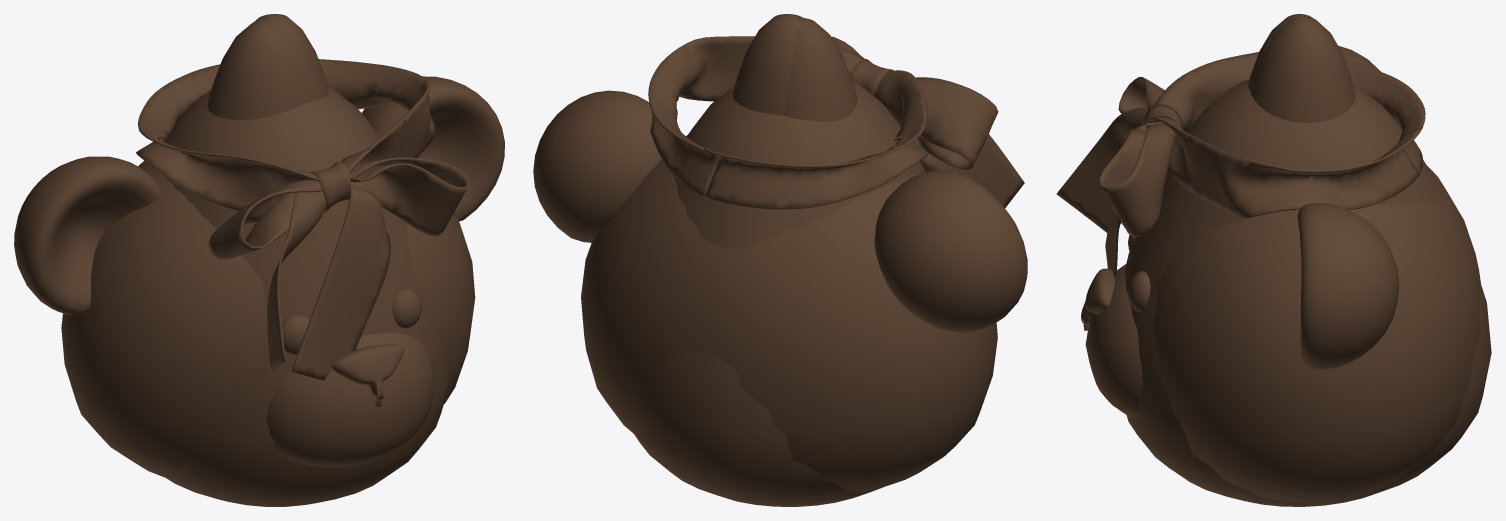
File: teddybears.glb
3 renders of one model, left to right at view 1: azimuth 30°, elevation 25°; view 2: azimuth 150°, elevation 25°; view 3: azimuth 270°, elevation 25°, orthographic.
Parts seen in each view (by area): view 1: head, body, legR, legL; view 2: head, body, legR, legL; view 3: head, body, legL, legR.
Boxes of the visible parts, <box> form: head: <box>14,76,504,480</box>; body: <box>136,59,469,506</box>; legR: <box>207,20,301,120</box>; legL: <box>253,14,328,104</box>; head: <box>533,90,1027,491</box>; body: <box>629,36,1024,506</box>; legR: <box>783,18,857,121</box>; legL: <box>732,14,803,115</box>; head: <box>1081,46,1481,502</box>; body: <box>1056,52,1491,506</box>; legL: <box>1250,16,1355,122</box>; legR: <box>1248,14,1312,90</box>.
Bounding box in the file's own units: 1.25 × 1.15 × 0.9865.
